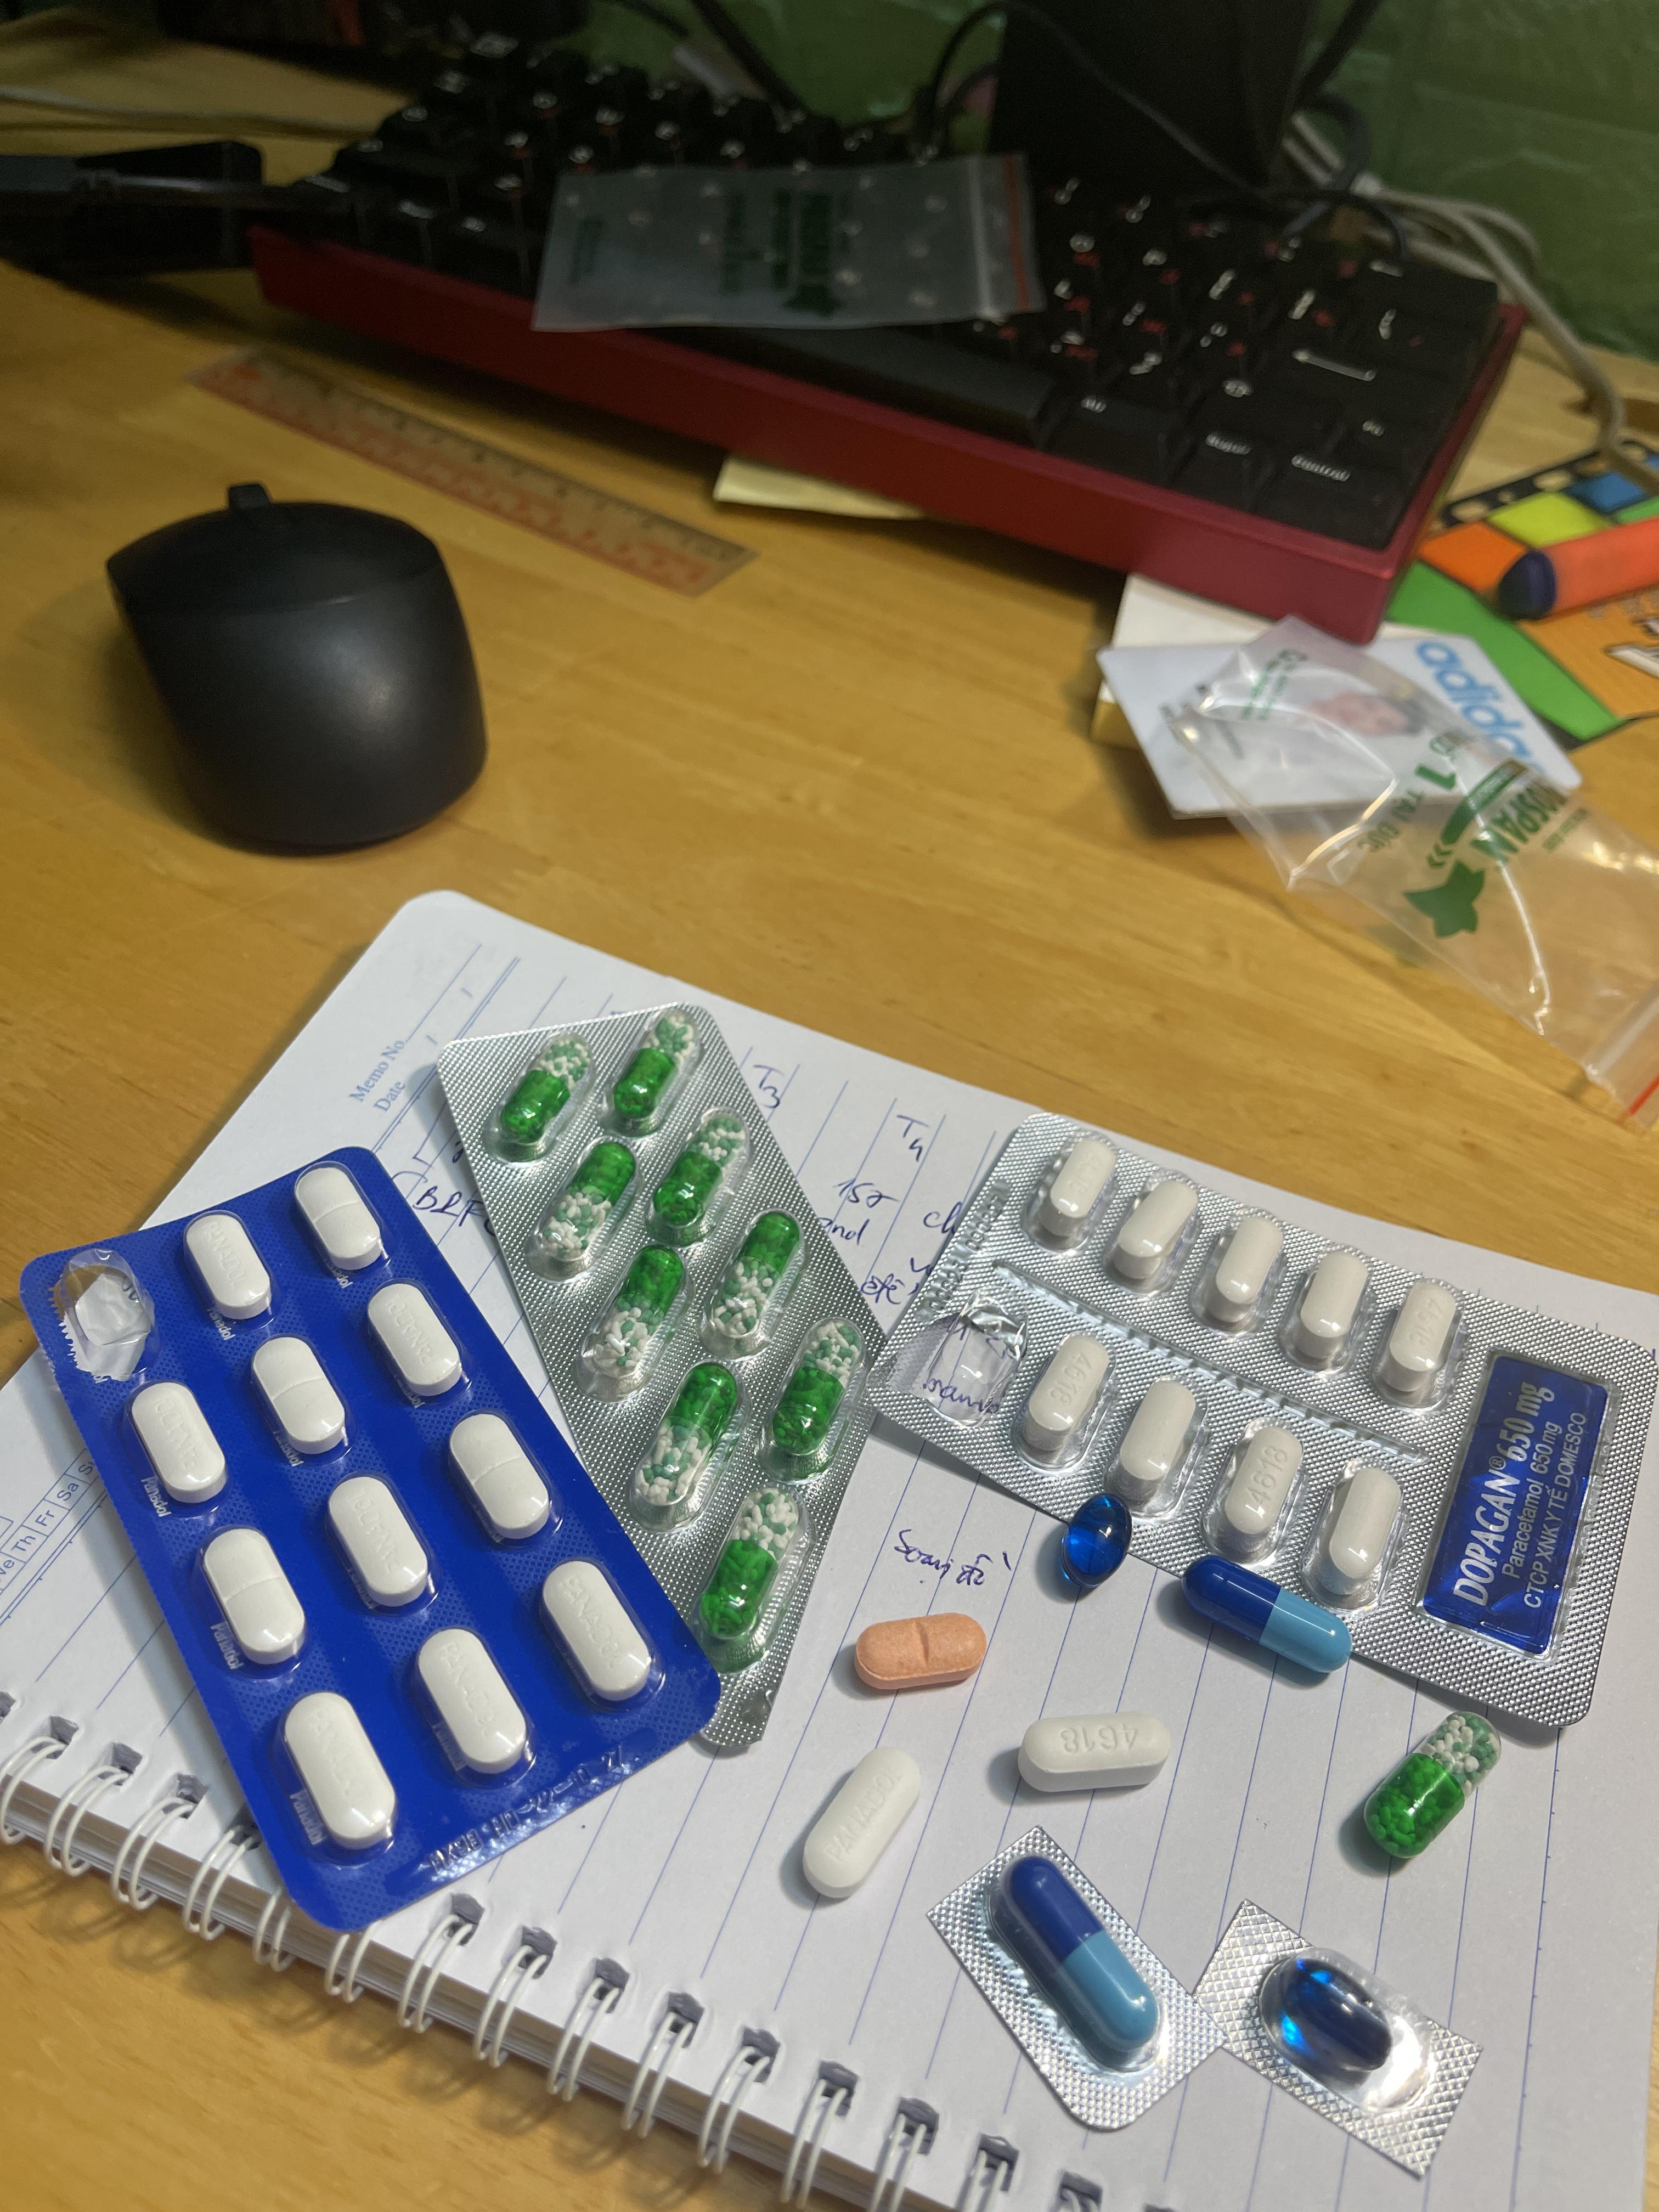Lincomyxin_500mg: (1276, 1959, 1396, 2078), (1063, 1498, 1136, 1585)
Loratadine_10mg: (854, 1611, 985, 1691)
Paracetamol_350mg: (796, 1742, 931, 1895), (282, 1691, 396, 1848), (413, 1627, 528, 1775), (542, 1559, 659, 1702), (202, 1526, 307, 1665), (328, 1475, 432, 1608), (450, 1411, 552, 1540), (131, 1379, 227, 1507), (251, 1334, 347, 1456), (366, 1282, 464, 1397), (185, 1212, 272, 1324), (295, 1169, 385, 1275)
Paracetamol_500mg: (1016, 1709, 1169, 1791), (1018, 1327, 1114, 1451), (1112, 1376, 1202, 1501), (1213, 1425, 1304, 1547), (1105, 1172, 1201, 1285), (1201, 1211, 1288, 1325), (1321, 1463, 1401, 1585), (1290, 1245, 1373, 1360), (1378, 1278, 1462, 1392), (1037, 1132, 1119, 1237)
Paracetamol_650mg: (1356, 1712, 1500, 1862), (633, 1362, 742, 1521), (577, 1247, 690, 1392), (699, 1207, 803, 1355), (647, 1104, 753, 1245), (765, 1322, 861, 1472), (532, 1136, 641, 1264), (695, 1500, 786, 1653), (498, 1036, 598, 1157), (608, 1012, 697, 1130)
pill: (995, 1857, 1161, 2059), (1180, 1555, 1347, 1679)
